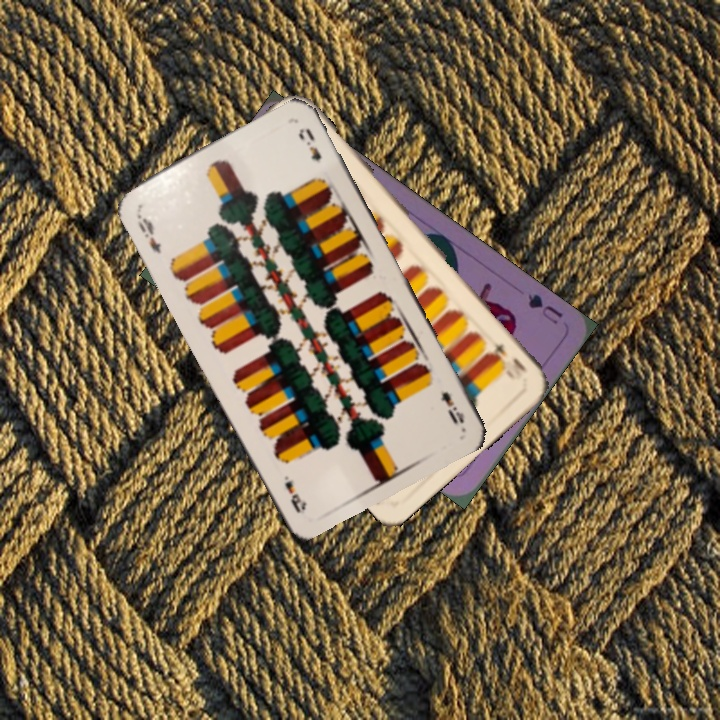E10: (484, 335, 531, 375)
E9: (132, 210, 164, 257), (436, 387, 467, 427)
GU: (523, 289, 566, 328)
